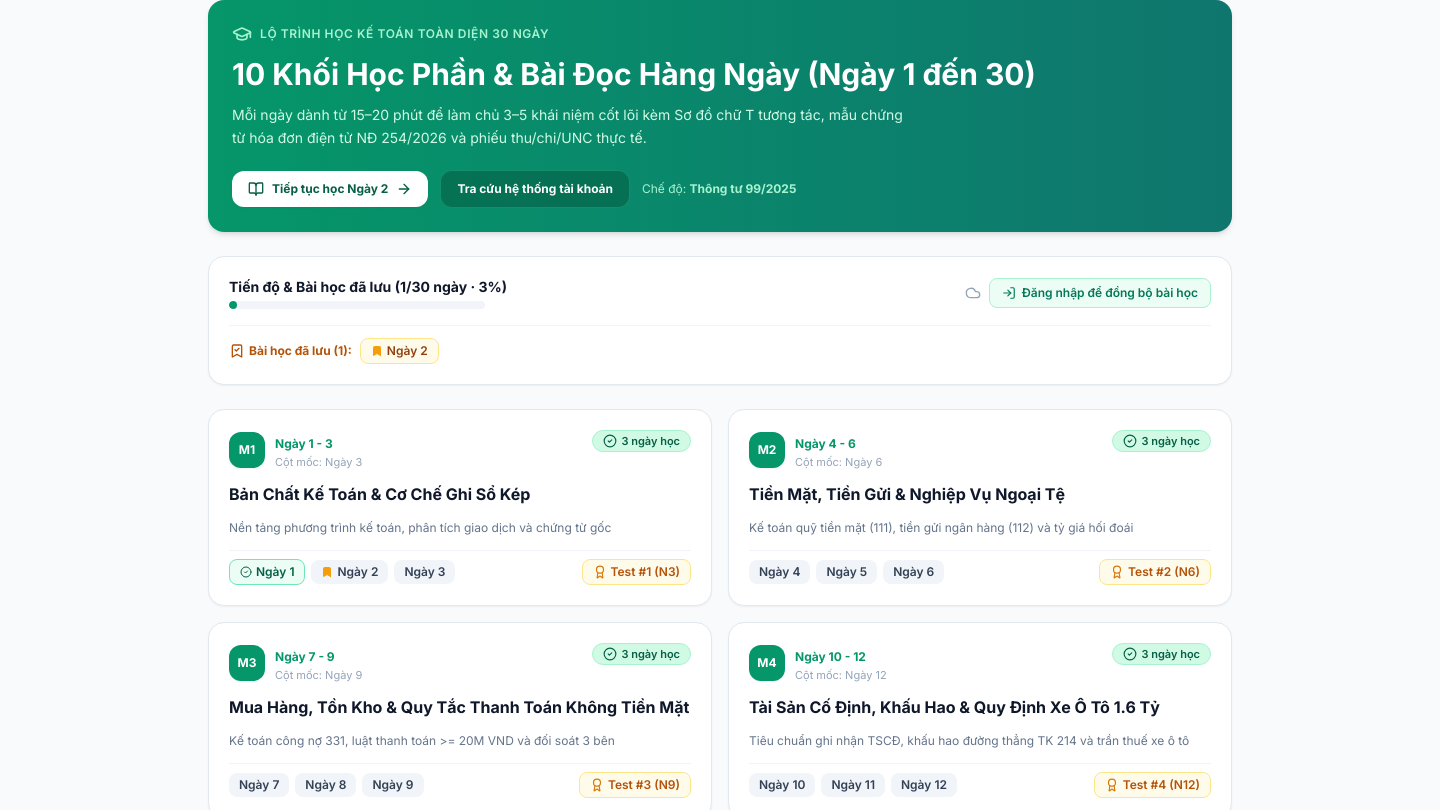
Auth Navigation Layout & Save Lesson UX › CurriculumPreview renders saved lesson chips and opens bookmarked day directly
Check: the element with test id "curriculum-progress-summary" shows "1/30 ngày", box [208,256,1232,384]
Step 1. Click the button with test id "saved-lesson-chip-2" → (399, 350), box [360,338,439,364]
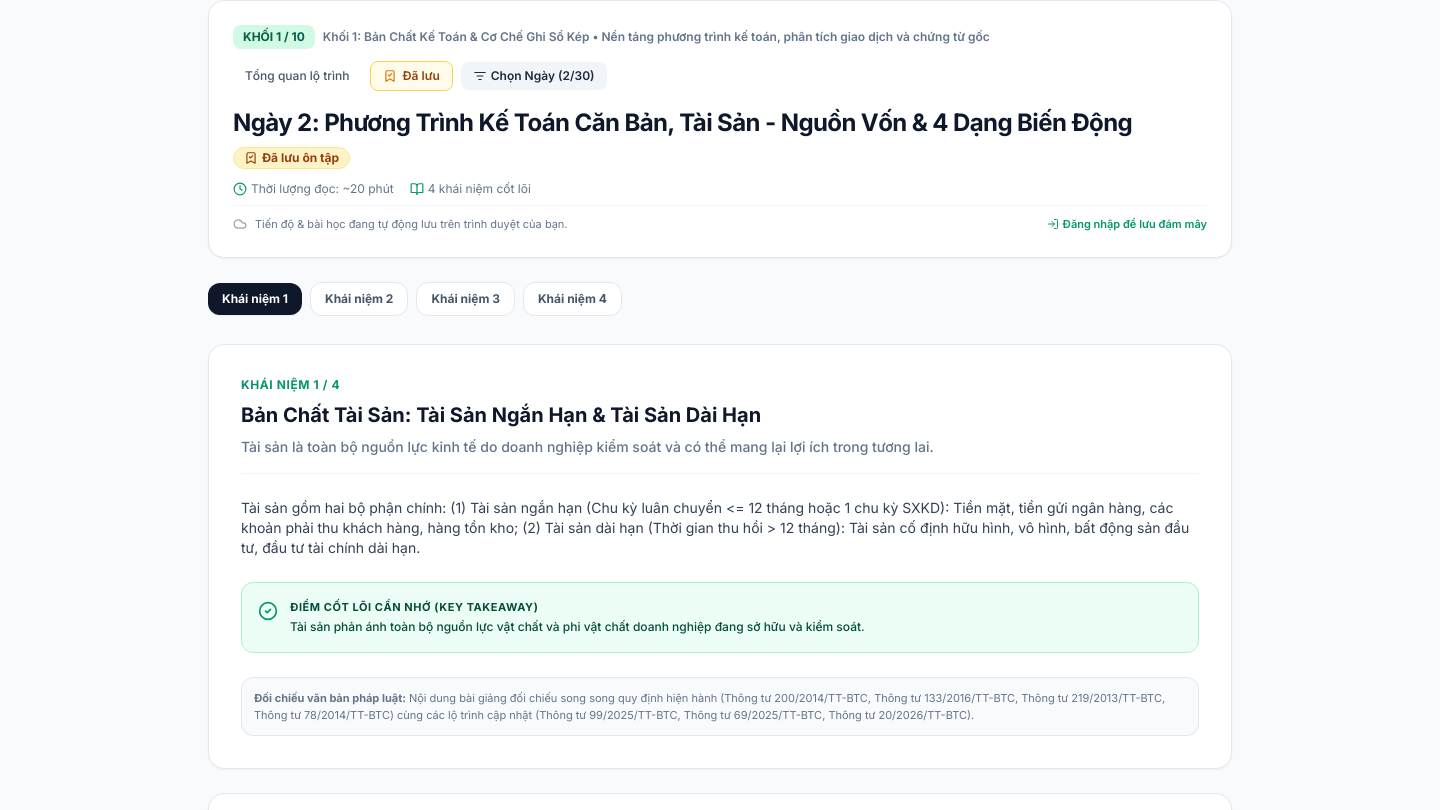
Check: the heading "Ngày 2: Phương Trình Kế Toán" is shown, box [233,108,1132,137]
